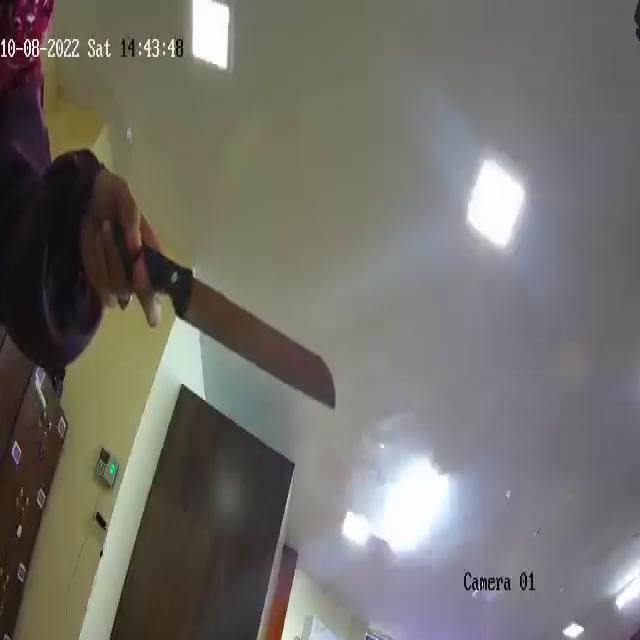Knife: (102, 216, 340, 414)
